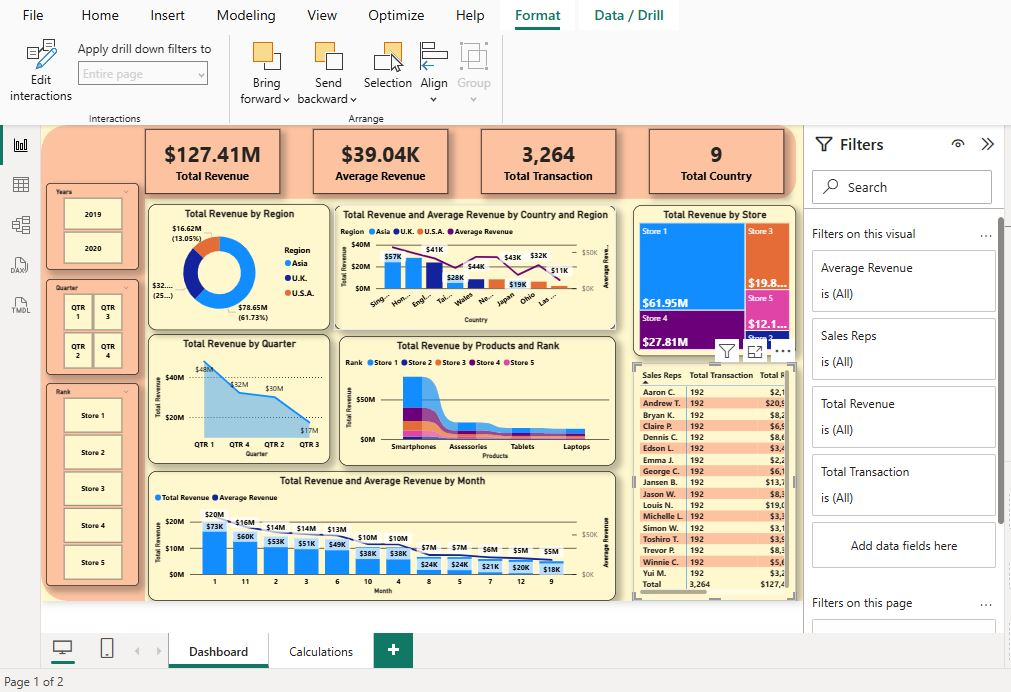

The page's visual inventory and layout, read from the dashboard file:
{"tool":"powerbi","page":{"name":"Dashboard","canvas":[1280,800],"ordinal":0},"visuals":[{"type":"shape","box":[0,0,174.7,799.6],"z":0},{"type":"shape","box":[174.7,0,1093.5,124.3],"z":1000},{"type":"cardVisual","fields":{"Data":["Measures (3).Total Revenue"]},"box":[174.7,6.7,226.8,109.2],"z":2000},{"type":"cardVisual","fields":{"Data":["Measures (3).Average Revenue"]},"box":[456.9,6.7,226.8,109.2],"z":3000},{"type":"cardVisual","fields":{"Data":["Measures (3).Total Transaction"]},"box":[739.1,6.7,226.8,109.2],"z":4000},{"type":"cardVisual","fields":{"Data":["Measures (3).Total Country"]},"box":[1021.3,6.7,226.8,109.2],"z":5000},{"type":"donutChart","fields":{"Y":["Measures (3).Total Revenue"],"Category":["Sheet1.Region"]},"box":[179.7,132.7,305.7,211.7],"z":6000},{"type":"lineStackedColumnComboChart","title":"Total Revenue and Average Revenue by Country and Region","fields":{"Y":["Measures (3).Total Revenue"],"Y2":["Measures (3).Average Revenue"],"Category":["Sheet1.Country"],"Series":["Sheet1.Region"]},"box":[492.2,134.4,473.7,210],"z":7000},{"type":"treemap","title":"Total Revenue by Store","fields":{"Group":["Sheet1.Rank"],"Values":["Measures (3).Total Revenue"]},"box":[994.4,134.4,273.8,253.6],"z":8000},{"type":"areaChart","fields":{"Category":["Sheet1.Quarter"],"Y":["Measures (3).Total Revenue"]},"box":[179.7,351.1,305.7,218.4],"z":9000},{"type":"ribbonChart","fields":{"Y":["Measures (3).Total Revenue"],"Category":["Sheet1.Products"],"Series":["Sheet1.Rank"]},"box":[500.6,354.4,465.3,218.4],"z":10000},{"type":"pivotTable","fields":{"Rows":["Sheet1.Sales Reps"],"Values":["Measures (3).Total Transaction","Measures (3).Total Revenue","Measures (3).Average Revenue"]},"box":[994.4,399.8,273.8,399.8],"z":11000},{"type":"lineStackedColumnComboChart","title":"Total Revenue and Average Revenue by Month","fields":{"Y":["Measures (3).Total Revenue"],"Y2":["Measures (3).Average Revenue"],"Category":["Sheet1.Month"]},"box":[179.7,581.2,786.1,218.4],"z":12000},{"type":"slicer","fields":{"Values":["Sheet1.Years"]},"box":[8.4,97.4,156.2,146.1],"z":13000},{"type":"slicer","fields":{"Values":["Sheet1.Quarter"]},"box":[8.4,257.8,156.2,161.3],"z":14000},{"type":"slicer","fields":{"Values":["Sheet1.Rank"]},"box":[8.4,433.4,156.2,341],"z":15000}]}

Visuals, with their boxes on the page's 1280x800 design canvas (x1, y1, x2, y2). These are canvas units, not pixel positions in the 1011x692 screenshot, which may show the page scaled, cropped or inside an application window:
shape: box=[0, 0, 175, 800]
shape: box=[175, 0, 1268, 124]
cardVisual - Measures (3).Total Revenue: box=[175, 7, 402, 116]
cardVisual - Measures (3).Average Revenue: box=[457, 7, 684, 116]
cardVisual - Measures (3).Total Transaction: box=[739, 7, 966, 116]
cardVisual - Measures (3).Total Country: box=[1021, 7, 1248, 116]
donutChart - Measures (3).Total Revenue x Sheet1.Region: box=[180, 133, 485, 344]
"Total Revenue and Average Revenue by Country and Region" lineStackedColumnComboChart: box=[492, 134, 966, 344]
"Total Revenue by Store" treemap: box=[994, 134, 1268, 388]
areaChart - Sheet1.Quarter x Measures (3).Total Revenue: box=[180, 351, 485, 570]
ribbonChart - Measures (3).Total Revenue x Sheet1.Products: box=[501, 354, 966, 573]
pivotTable - Sheet1.Sales Reps x Measures (3).Total Transaction: box=[994, 400, 1268, 800]
"Total Revenue and Average Revenue by Month" lineStackedColumnComboChart: box=[180, 581, 966, 800]
slicer - Sheet1.Years: box=[8, 97, 165, 244]
slicer - Sheet1.Quarter: box=[8, 258, 165, 419]
slicer - Sheet1.Rank: box=[8, 433, 165, 774]
